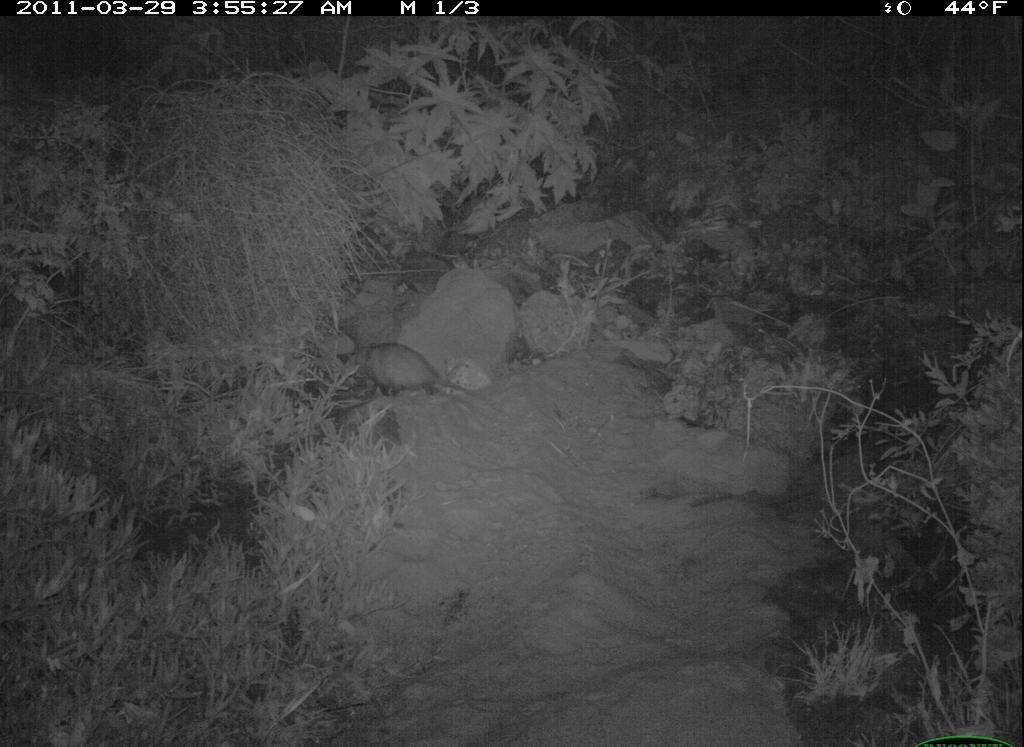opossum: (355, 337, 496, 414)
